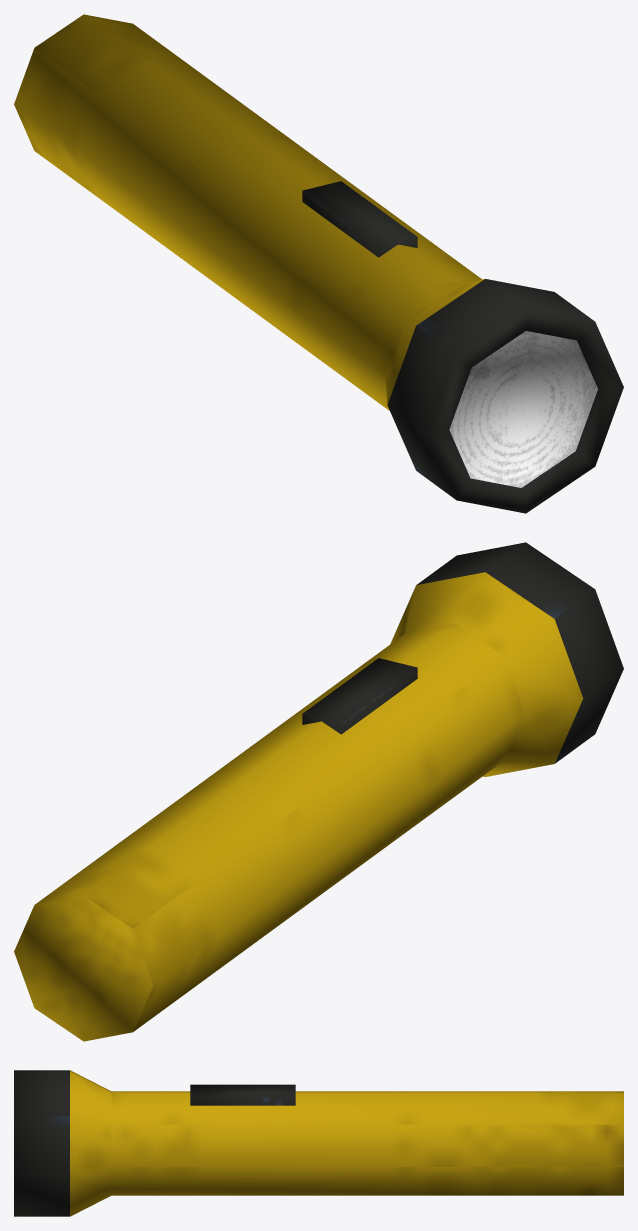
Rendered from Flashlight.fbx.
The picture shows the model from 3 angles, top to bottom: view 1: azimuth 30°, elevation 25°; view 2: azimuth 150°, elevation 25°; view 3: azimuth 270°, elevation 25°; orthographic projection. The views are drawn at different scales.
Visible parts, largest first — view 1: Flash Light; view 2: Flash Light; view 3: Flash Light.
Part boxes in pixels (x1,y1,x2,y2): Flash Light: [14, 14, 623, 513]; Flash Light: [14, 542, 623, 1041]; Flash Light: [14, 1070, 623, 1216].
Size of the model in its own units: 19.37 by 19.37 by 75.72.
Materials: 2 (2 with a texture image).
